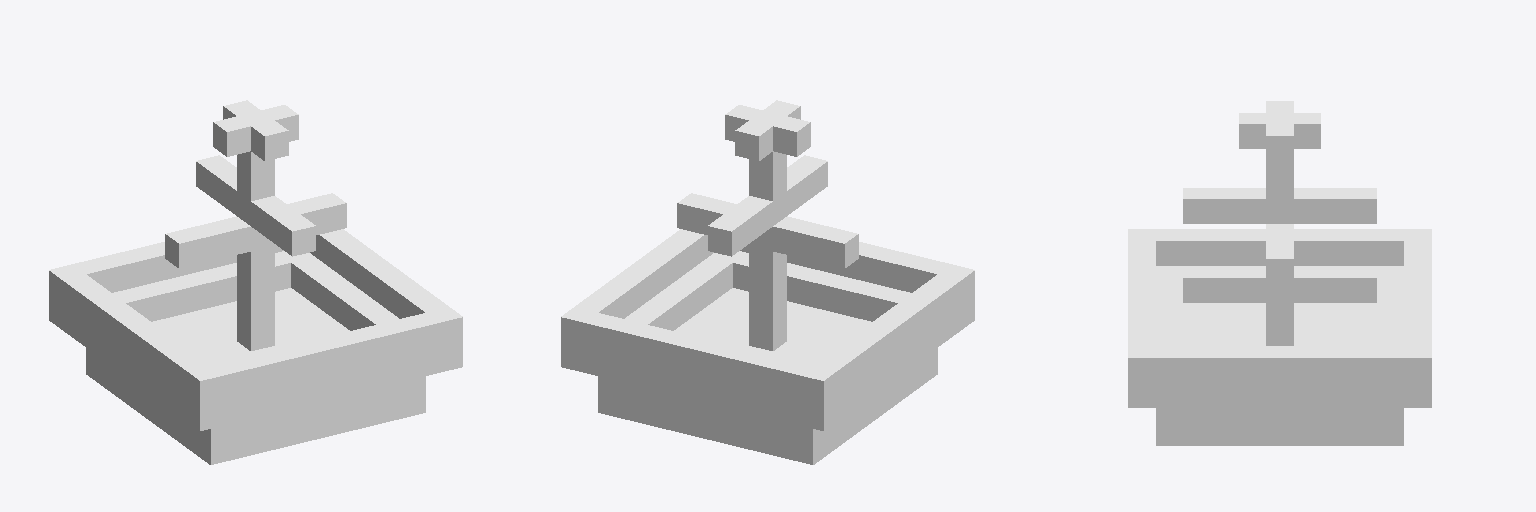
Rendered from flower_base.obj.
The picture shows the model from 3 angles: view 1: azimuth 30°, elevation 25°; view 2: azimuth 150°, elevation 25°; view 3: azimuth 270°, elevation 25°; orthographic projection.
Visible parts, largest first — view 1: flower_base; view 2: flower_base; view 3: flower_base.
Boxes of the visible parts, x1=… form: flower_base: x1=49, y1=100, x2=462, y2=464; flower_base: x1=561, y1=100, x2=974, y2=464; flower_base: x1=1128, y1=101, x2=1431, y2=445.
Size of the model in its own units: 11 by 11 by 11.